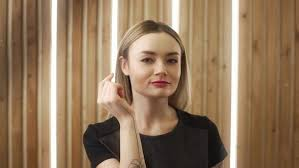white_female: (103, 10, 192, 97)
